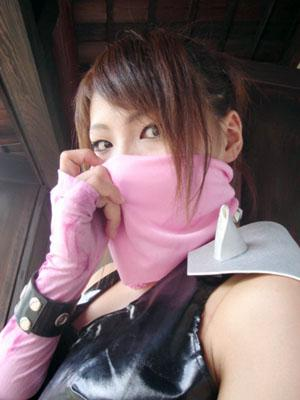OK: (84, 106, 198, 220)
